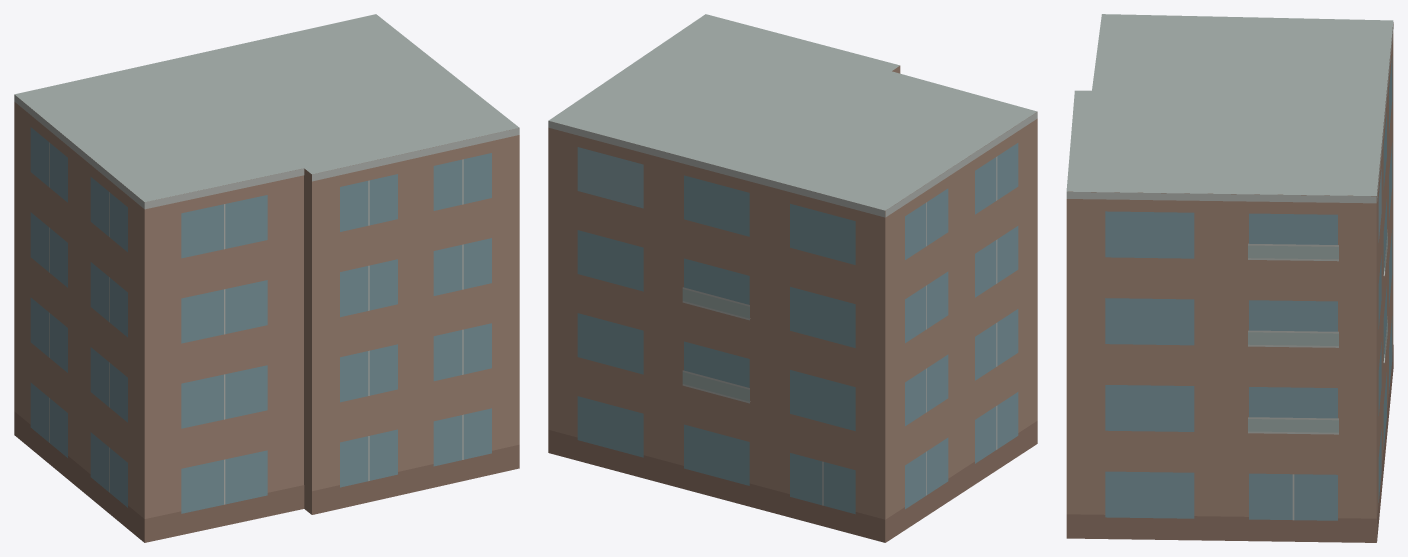
Rendered from survey-upis-32662108.glb.
3 renders of one model, left to right at view 1: azimuth 30°, elevation 25°; view 2: azimuth 150°, elevation 25°; view 3: azimuth 270°, elevation 25°, orthographic. The views are drawn at different scales.
Parts seen in each view (by area): view 1: survey-upis-32662108.tmp; view 2: survey-upis-32662108.tmp; view 3: survey-upis-32662108.tmp.
Part boxes in pixels (x1,y1,x2,y2): survey-upis-32662108.tmp: (14,14,519,542); survey-upis-32662108.tmp: (548,14,1037,542); survey-upis-32662108.tmp: (1066,14,1393,542).
Bounding box in the file's own units: 13.19 × 11.7 × 10.01.
